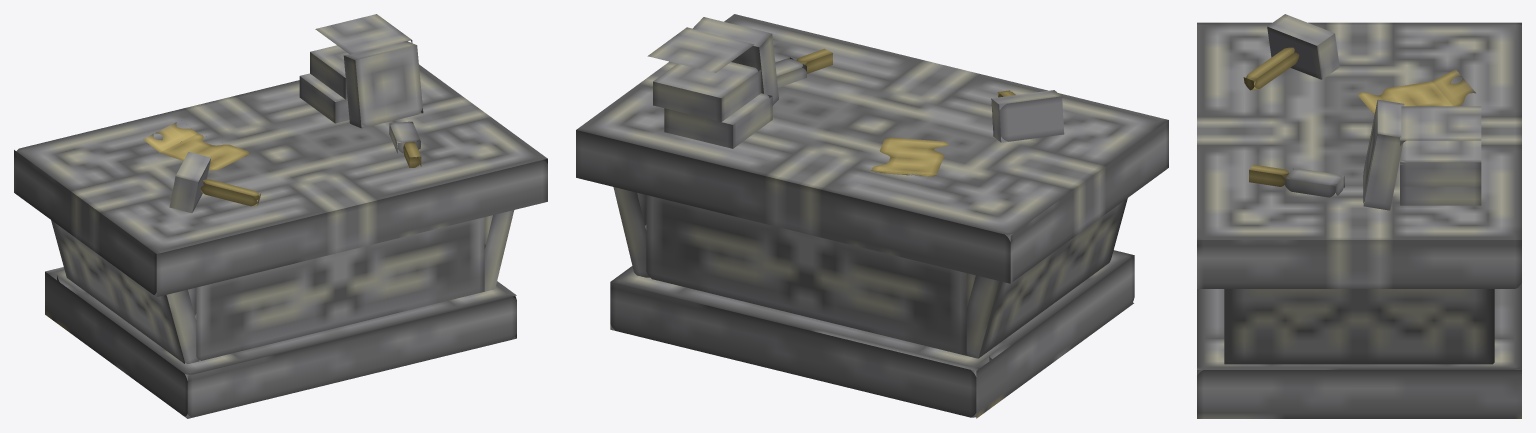
Rendered from aztec_crafting_station.obj.
The picture shows the model from 3 angles, left to right: view 1: azimuth 30°, elevation 25°; view 2: azimuth 150°, elevation 25°; view 3: azimuth 270°, elevation 25°; orthographic projection. The views are drawn at different scales.
Visible parts, largest first — view 1: cube; view 2: cube; view 3: cube.
Boxes of the visible parts, left/top/right/bottom form: cube: left=14, top=14, right=547, bottom=418; cube: left=576, top=14, right=1168, bottom=418; cube: left=1197, top=14, right=1521, bottom=418.
Size of the model in its own units: 2.38 by 1.39 by 1.5.
